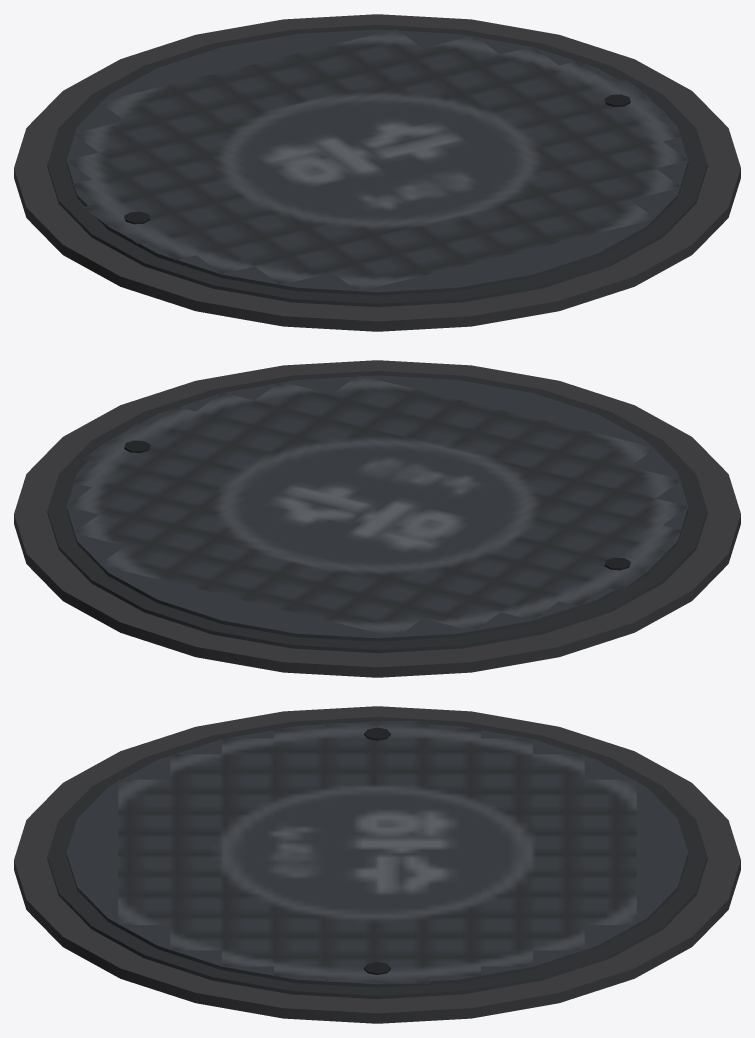
File: SC_Util_Manhole_Cover.gltf
3 renders of one model, top to bottom at view 1: azimuth 30°, elevation 25°; view 2: azimuth 150°, elevation 25°; view 3: azimuth 270°, elevation 25°, orthographic.
Parts seen in each view (by area): view 1: SC_Util_Manhole_Cover; view 2: SC_Util_Manhole_Cover; view 3: SC_Util_Manhole_Cover.
Boxes of the visible parts, left/top/right/bottom form: SC_Util_Manhole_Cover: left=14, top=14, right=740, bottom=331; SC_Util_Manhole_Cover: left=14, top=360, right=740, bottom=677; SC_Util_Manhole_Cover: left=14, top=706, right=740, bottom=1023.
Size of the model in its own units: 0.76 by 0.0227 by 0.76.
Materials: 2 (2 with a texture image).
